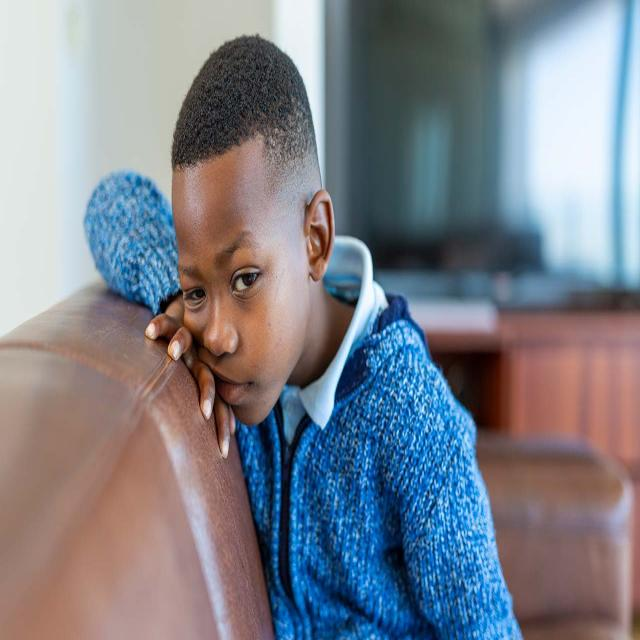child: (74, 34, 527, 640)
